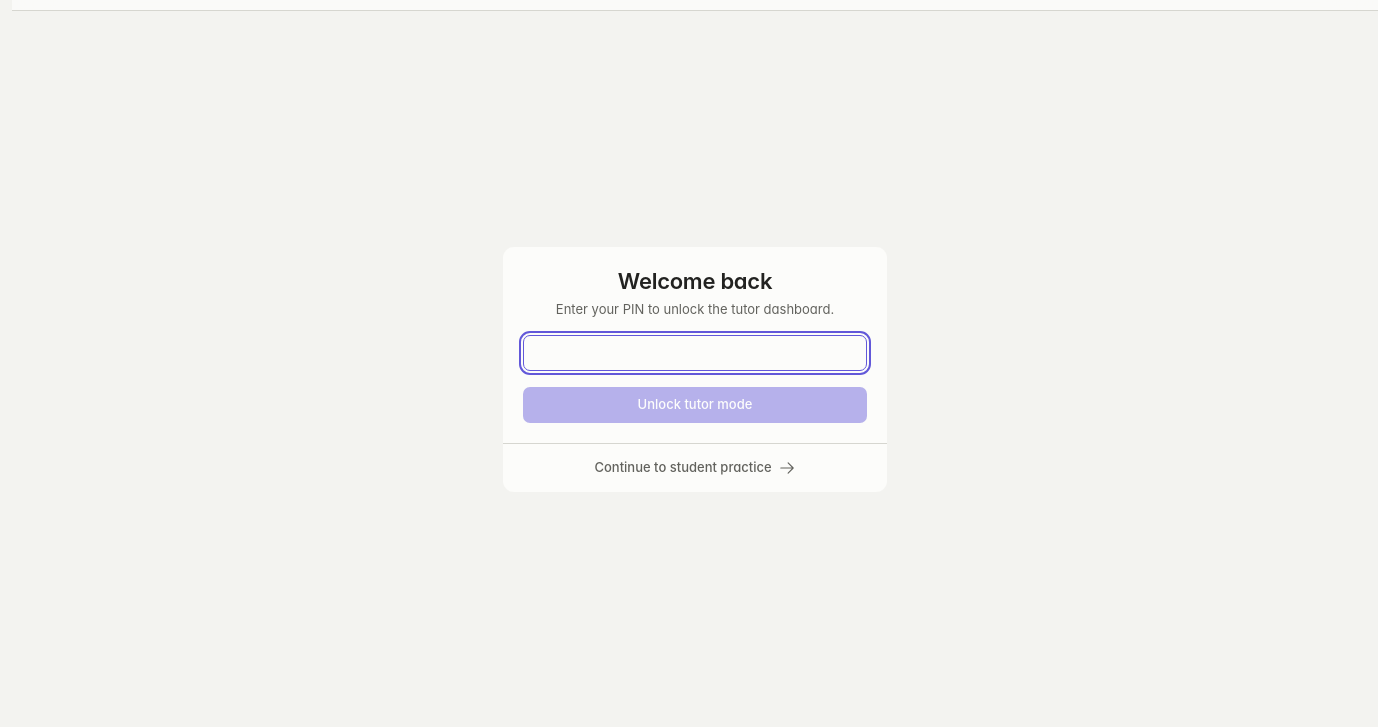
Test: UnlockScreen › verify form: 'Continue to student practice' switches mode to student
This screenshot has width=1378, height=727.
Check: the heading "Welcome back" is shown, box [618, 268, 772, 294]
Step 1. Click the button "Continue to student practice" → (695, 468), box [515, 452, 875, 484]
(page scrolled)
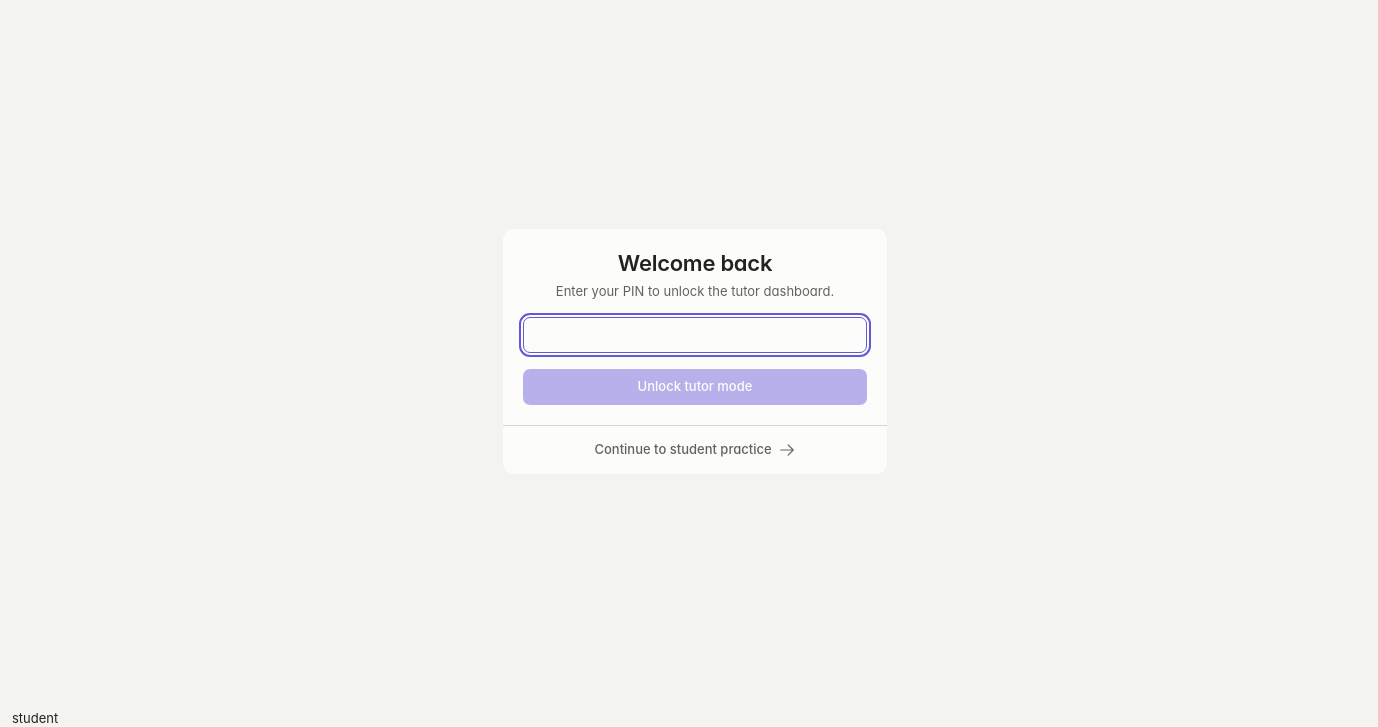
Check: the text with test id "mode" reads "student", box [12, 710, 58, 726]
